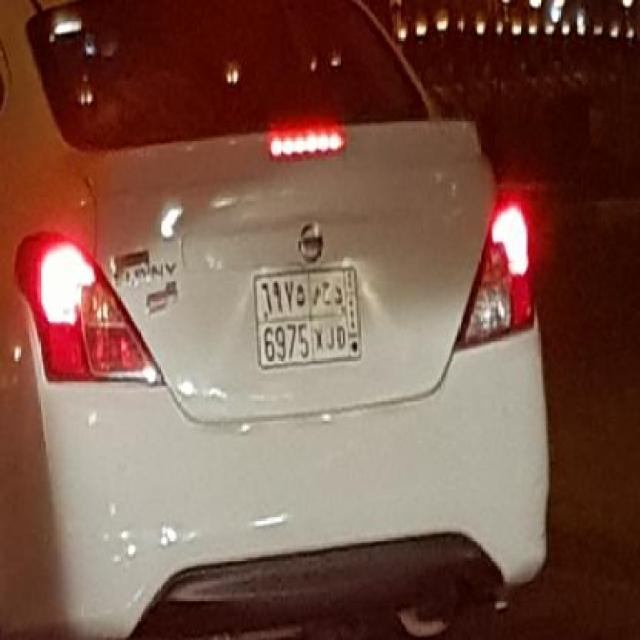license_plate: (251, 261, 364, 373)
